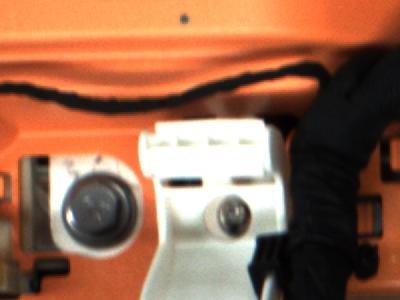nut_b: (61, 174, 141, 251)
